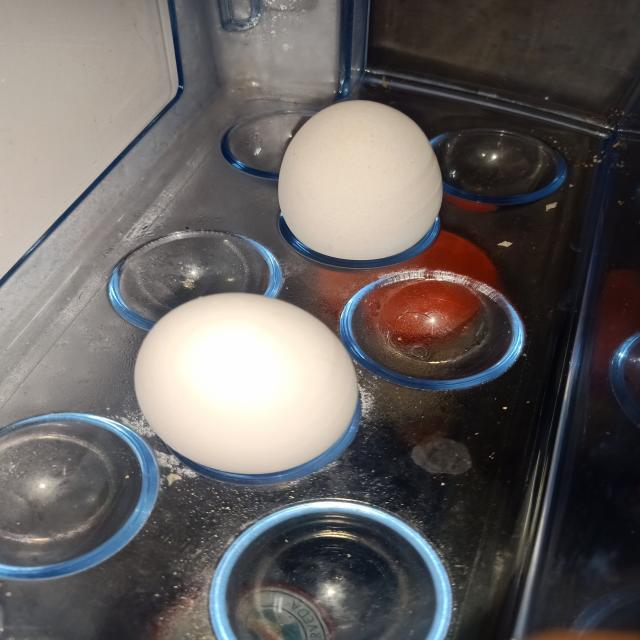Egg: (122, 282, 370, 505), (270, 81, 450, 271)
